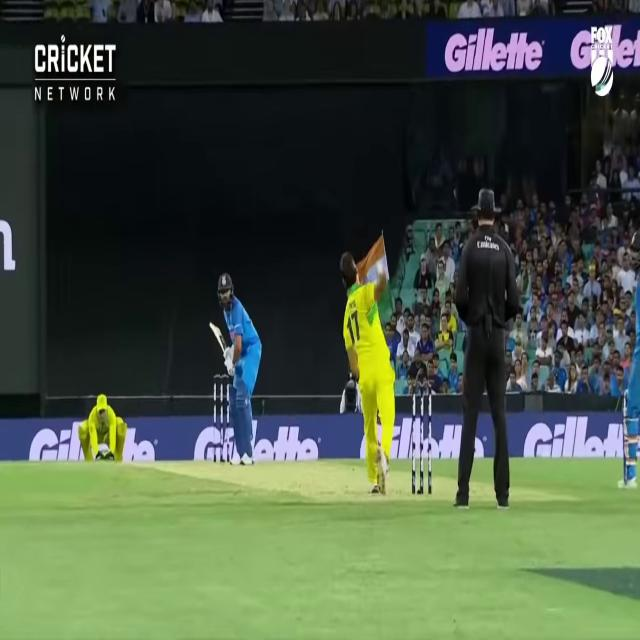ball: (377, 262, 382, 276)
stump: (216, 372, 232, 459)
